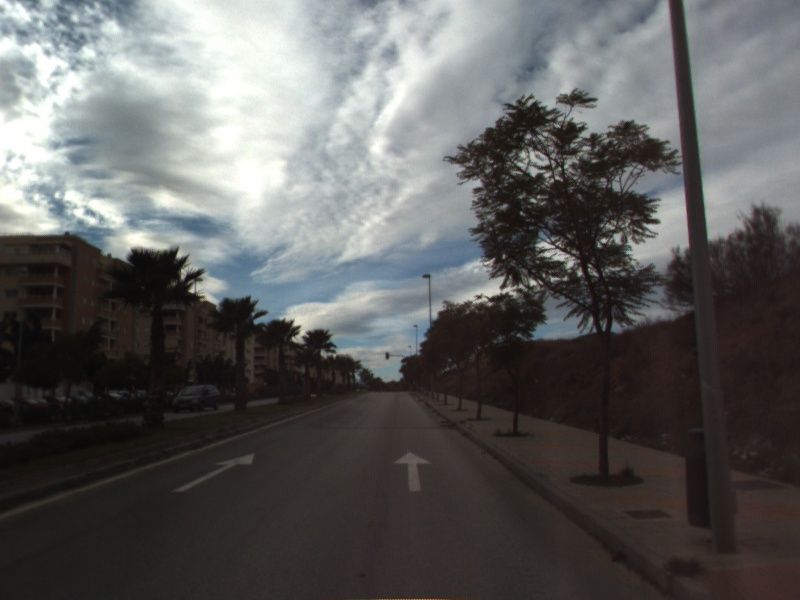STRAIGHT: (170, 451, 257, 494), (391, 449, 435, 493)
